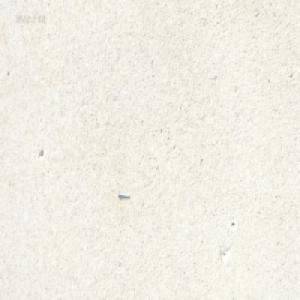Nail: (115, 190, 130, 199)
